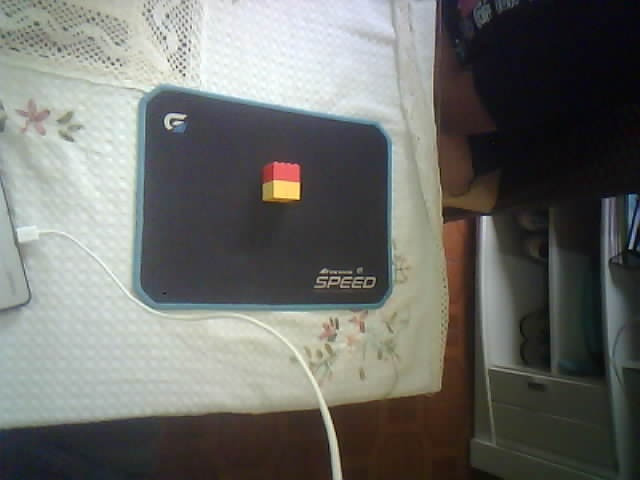lego: (259, 161, 303, 205)
